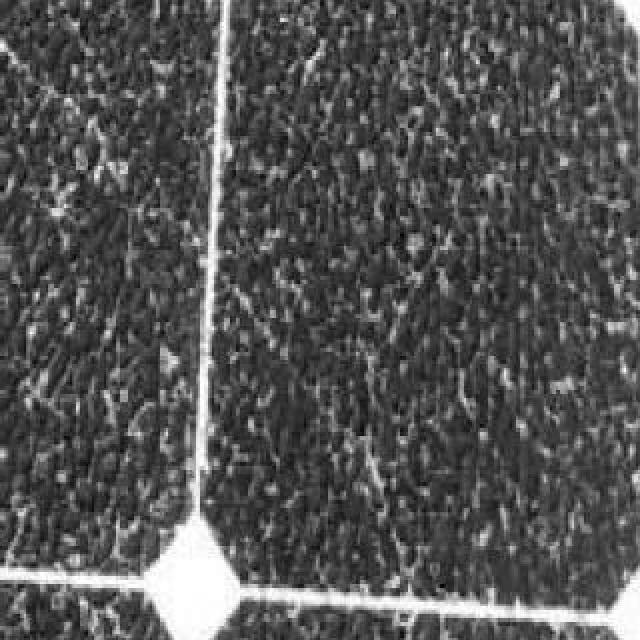Physical-damage: (32, 37, 610, 631)
